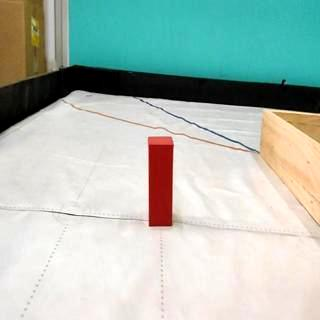redbox: (147, 136, 173, 227)
